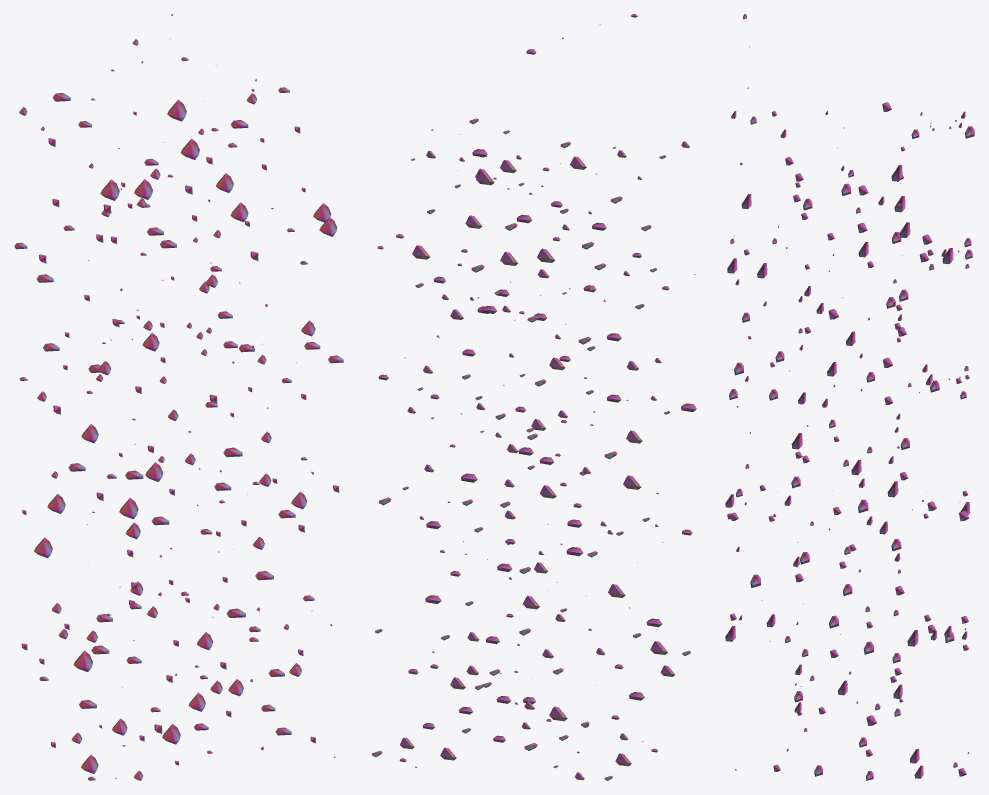
File: vert_stone.fbx
The picture shows the model from 3 angles, left to right: view 1: azimuth 30°, elevation 25°; view 2: azimuth 150°, elevation 25°; view 3: azimuth 270°, elevation 25°; orthographic projection. The views are drawn at different scales.
Parts seen in each view (by area): view 1: uvlayout22; view 2: uvlayout22; view 3: uvlayout22.
Part boxes in pixels (<box>): uvlayout22: <box>14,14,343,780</box>; uvlayout22: <box>372,14,696,780</box>; uvlayout22: <box>725,14,974,780</box>.
Bounding box in the file's own units: 3803 × 11524 × 3721.
